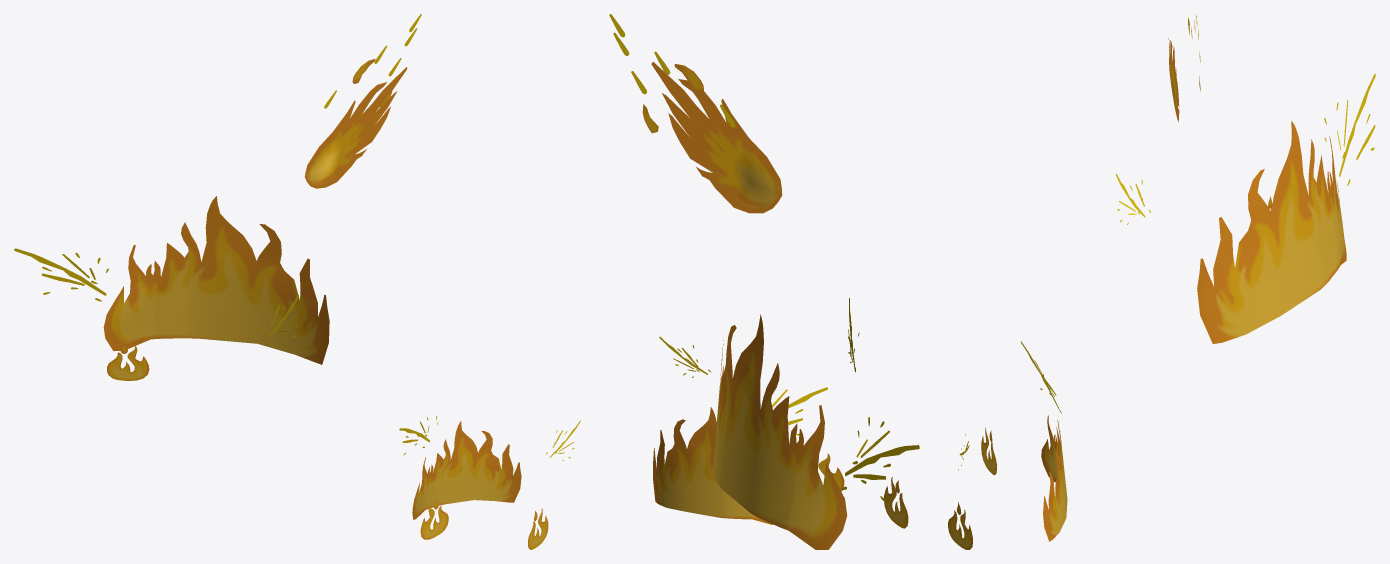
File: fuegos.fbx
3 renders of one model, left to right at view 1: azimuth 30°, elevation 25°; view 2: azimuth 150°, elevation 25°; view 3: azimuth 270°, elevation 25°, orthographic. The views are drawn at different scales.
Parts seen in each view (by area): view 1: MDL_Fuego_19, MDL_Fuego_1, MDL_Bola_Fuego_10; view 2: MDL_Fuego_19, MDL_Bola_Fuego_10, MDL_Fuego_1; view 3: MDL_Fuego_19, MDL_Fuego_1, MDL_Bola_Fuego_10.
Boxes of the visible parts, <box> form: MDL_Fuego_19: <box>14,196,329,380</box>; MDL_Fuego_1: <box>399,416,580,549</box>; MDL_Bola_Fuego_10: <box>304,14,421,188</box>; MDL_Fuego_19: <box>712,298,919,549</box>; MDL_Bola_Fuego_10: <box>609,14,782,213</box>; MDL_Fuego_1: <box>653,336,844,524</box>; MDL_Fuego_19: <box>1116,74,1375,343</box>; MDL_Fuego_1: <box>948,341,1067,549</box>; MDL_Bola_Fuego_10: <box>1168,14,1200,122</box>.
Size of the model in its own units: 525 by 594 by 439.
